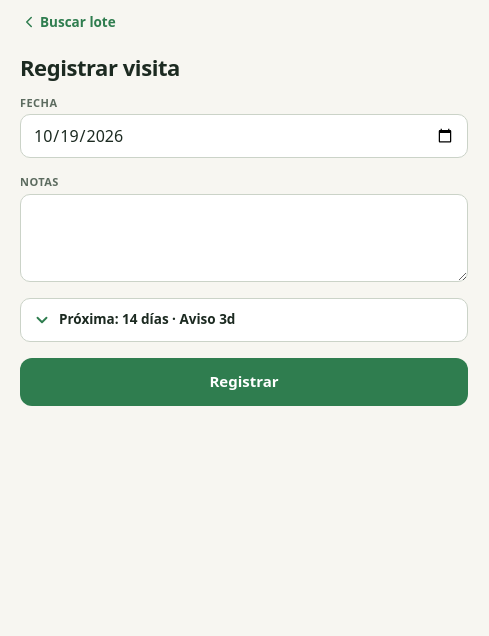
it: RecordVisitScreen › ofrece presets de intervalo (7/10/14) y tocar uno llena el input de Días
Click the button "Próxima: 14 días · Aviso 3d".
click(147, 319)  # box [20,298,468,342]
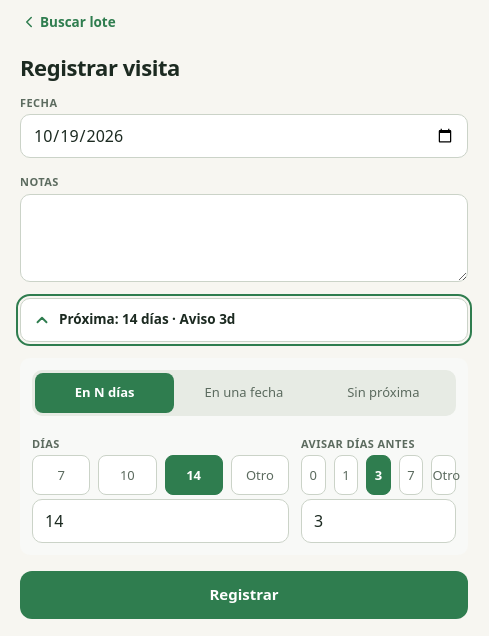
Click the 1st button "7".
click(61, 475)  # box [32,455,90,495]
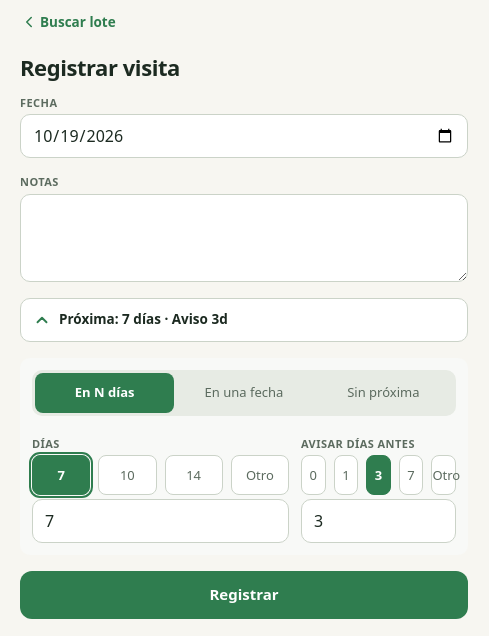
Expected: the number field labelled "Días" holds "7", [32,499,289,543]
Click the button "14".
click(194, 475)  # box [164,455,223,495]
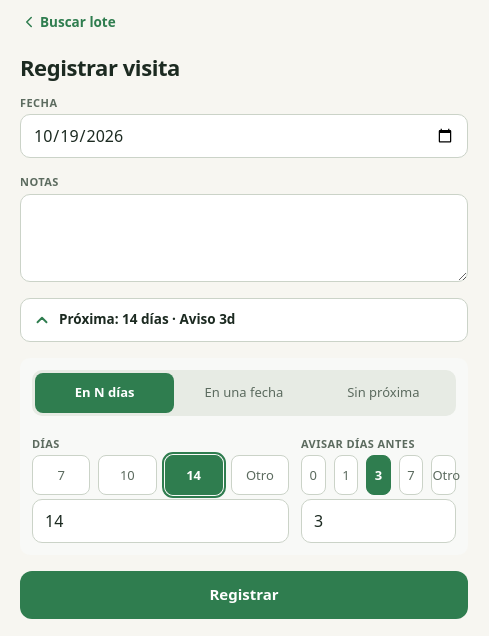
Expected: the number field labelled "Días" holds "14", [32,499,289,543]
